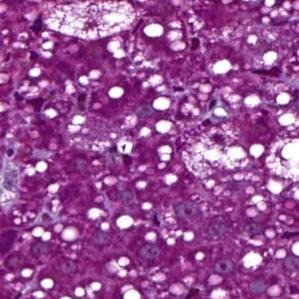ballooning: (182, 115, 251, 181), (39, 4, 137, 42)
